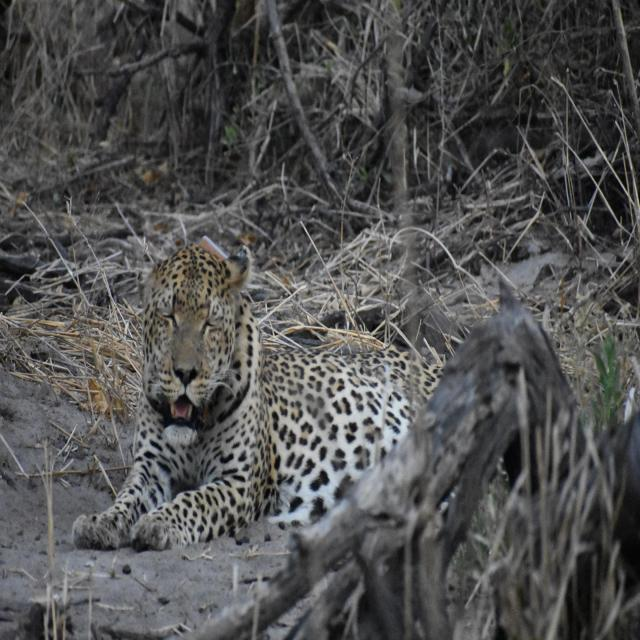Leopard: (73, 250, 530, 561)
